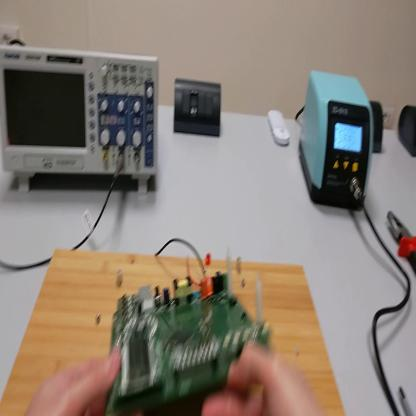hand: (202, 342, 325, 416), (23, 352, 122, 416)
low voltage board: (108, 236, 279, 416)
oscilloscope: (3, 49, 160, 202)
pliers: (389, 211, 416, 273)
screwdriver-: (401, 385, 411, 415)
socket: (398, 101, 416, 156), (370, 101, 384, 154)
welder station: (299, 74, 374, 211)
working area: (1, 251, 346, 414)
